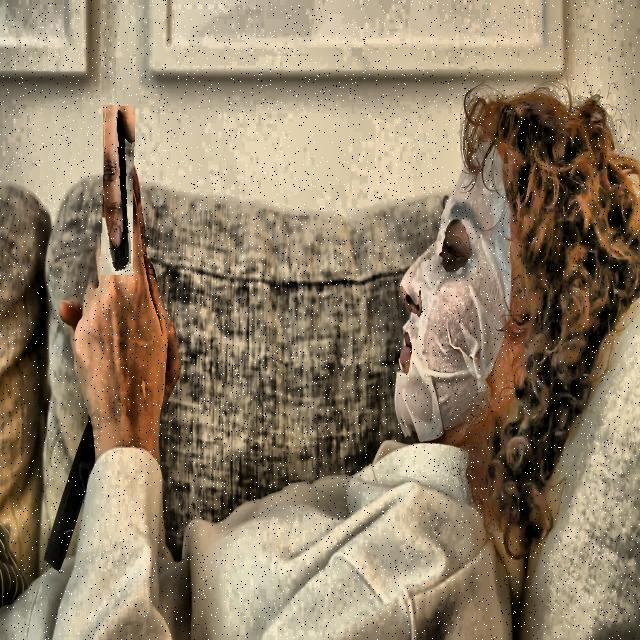Phone: (100, 104, 134, 275)
